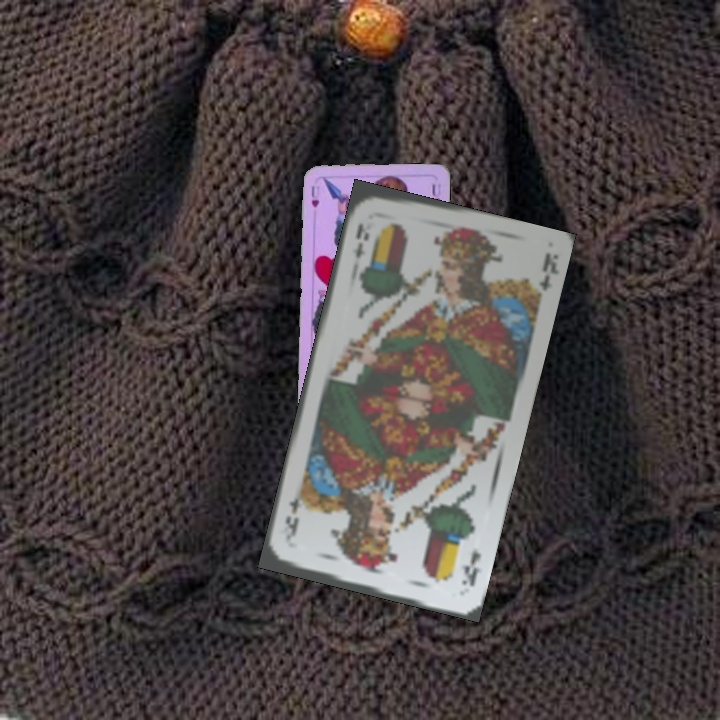EK: (458, 545, 484, 589), (348, 219, 372, 261)
HU: (307, 181, 322, 210)
